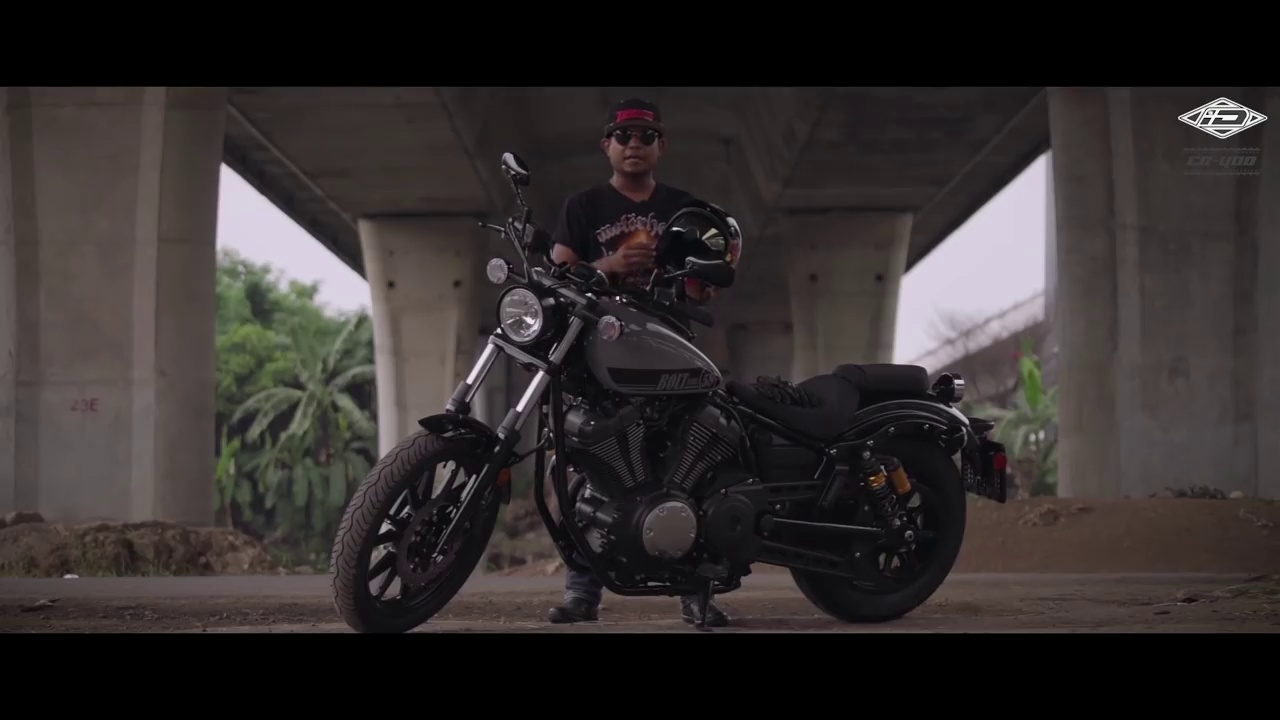helmet: (652, 198, 757, 287)
